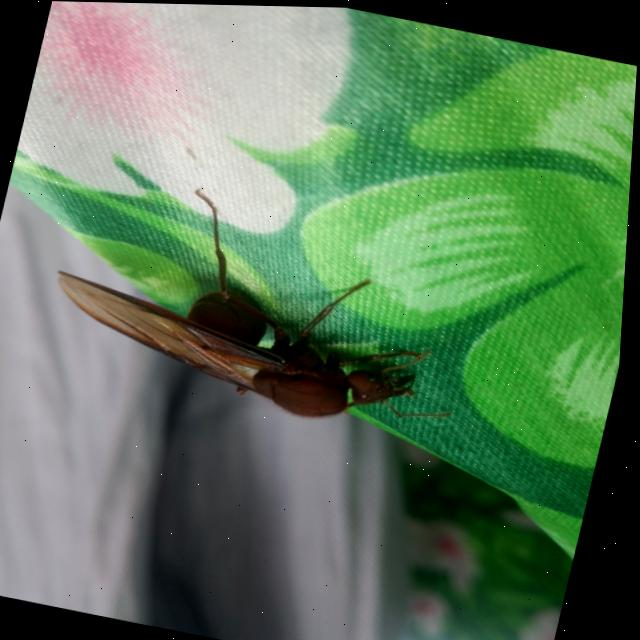Alive-Female-Alate: (36, 163, 498, 446)
